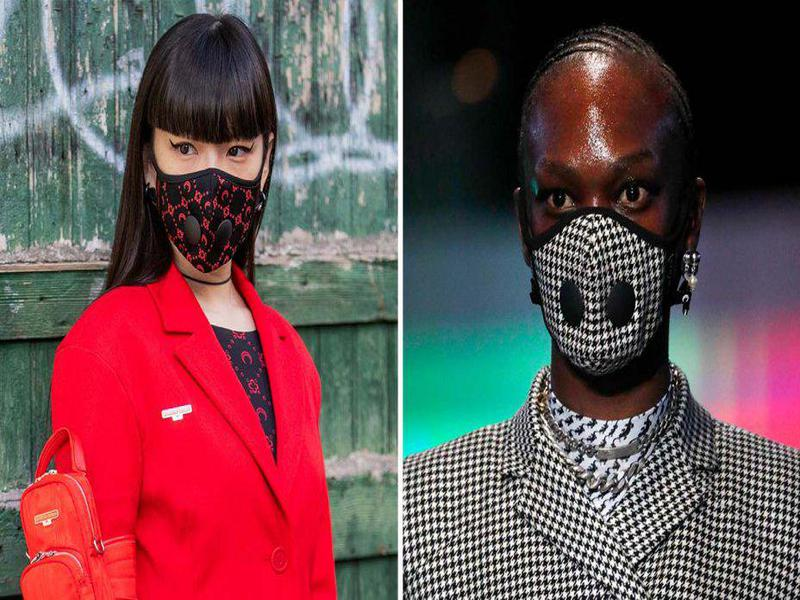with_mask: (525, 64, 686, 384), (126, 18, 276, 275)
